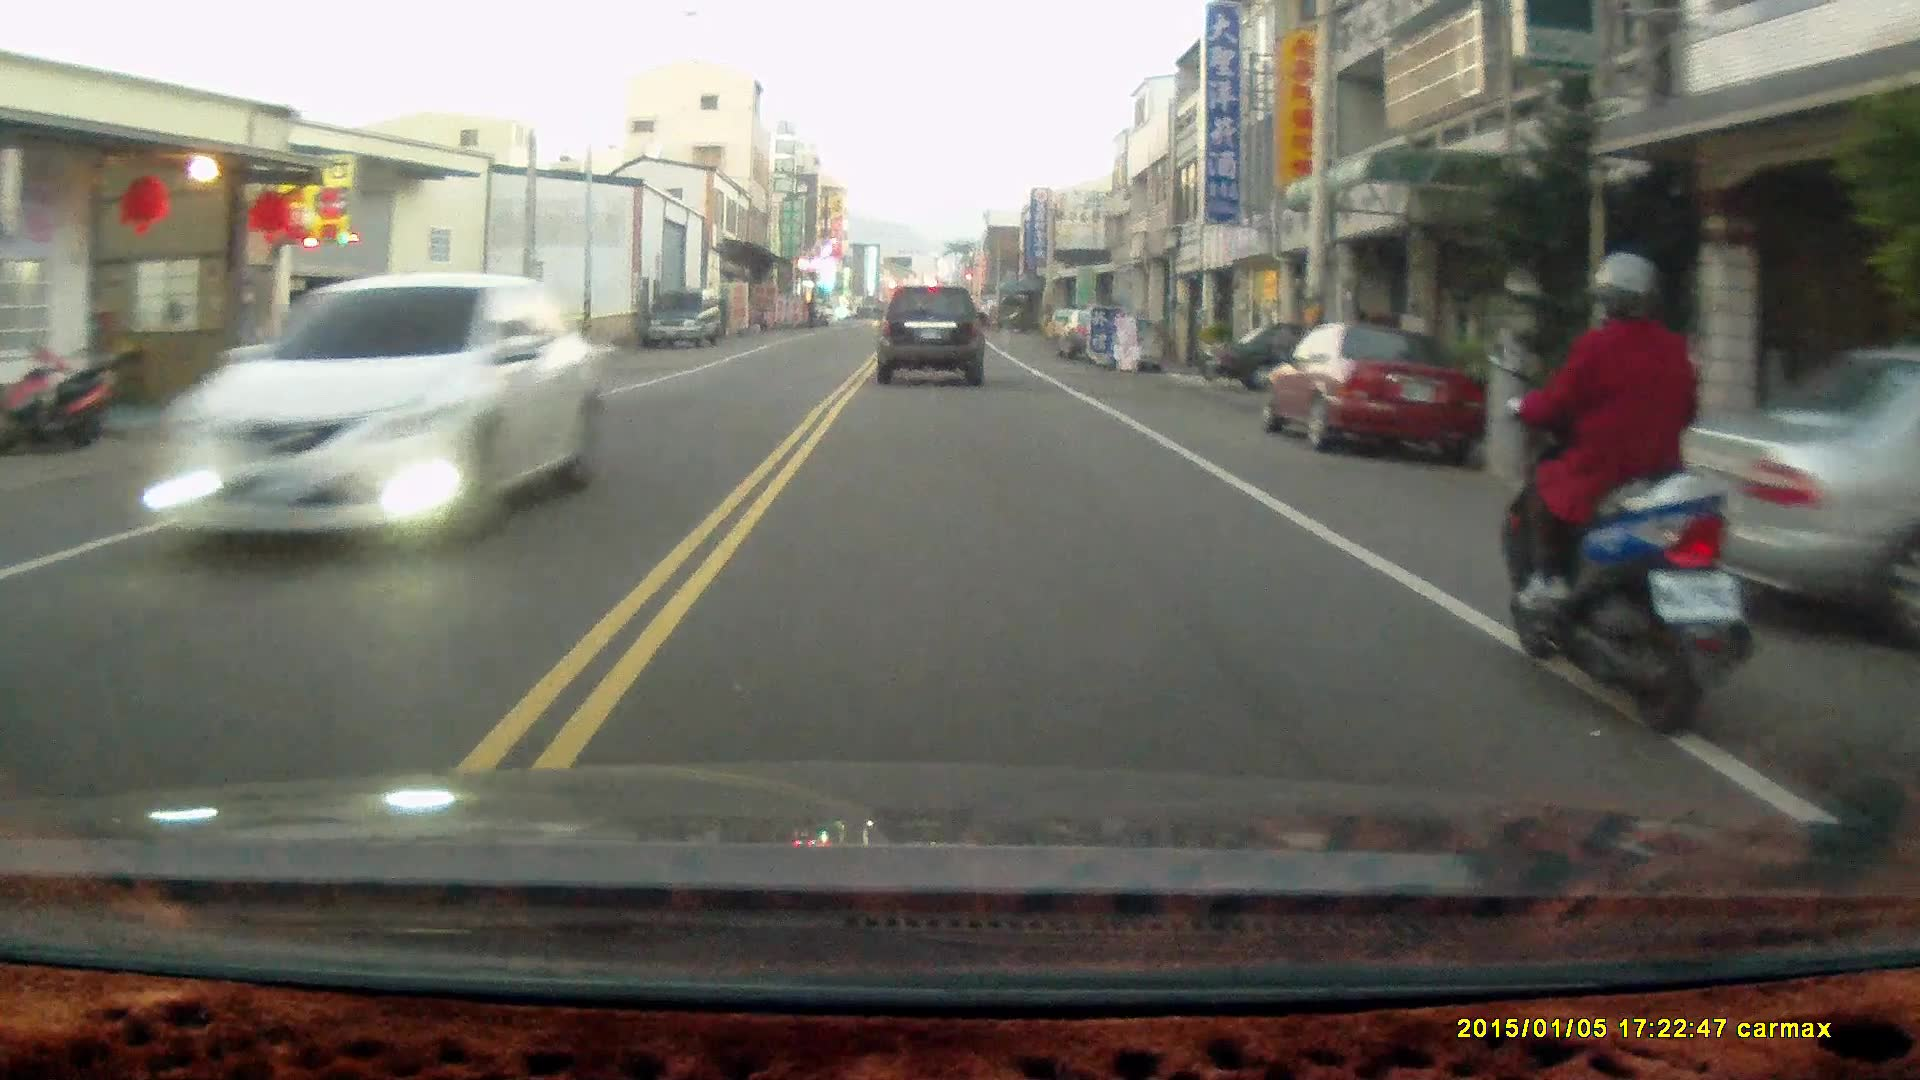rider: (1496, 242, 1762, 745)
vehicle: (113, 270, 598, 548), (1639, 340, 1920, 651), (1263, 312, 1489, 461), (1200, 321, 1407, 391), (879, 277, 989, 383), (650, 288, 724, 349)
